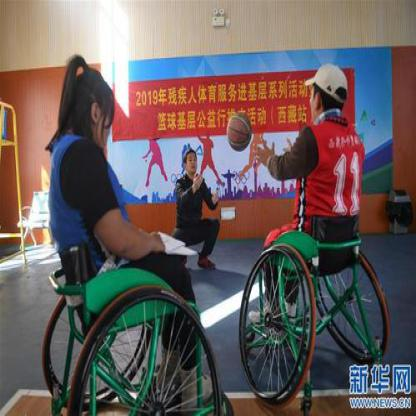wheelchair: (33, 53, 232, 415), (239, 65, 394, 414)
